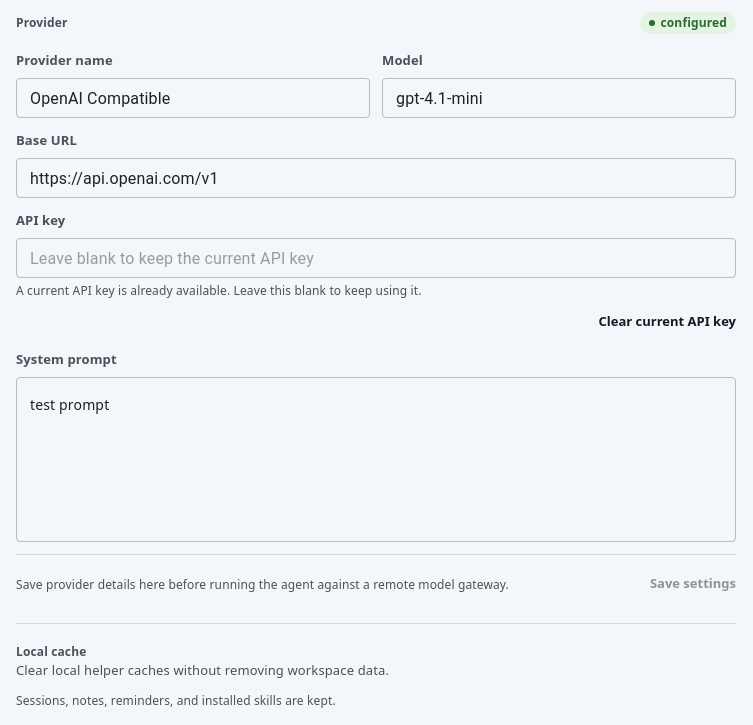
Test: settings workspace toggles api key clear state and undo state
Expected: the password field with placeholder "Leave blank to keep the current API key" is shown, [16,238,736,278]
Expected: the text "A current API key is already available. Leave this blank to keep using it." is shown, [16,282,422,299]
What coordinates should you click on to do the following:
click the button "Clear current API key"
I would click on:
 (667, 321)
Its box is [598,305,736,337].
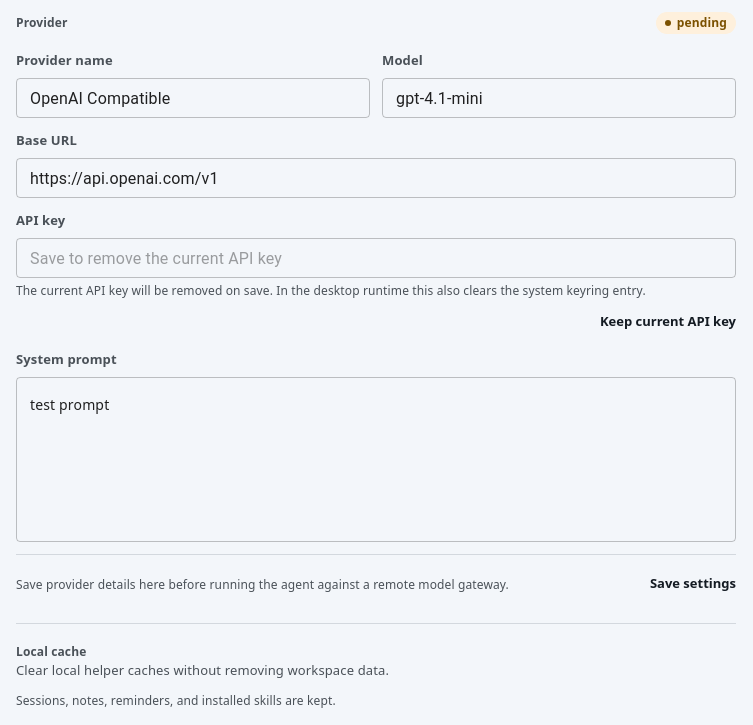
Expected: the password field with placeholder "Save to remove the current API key" is shown, [16,238,736,278]
Expected: the text "The current API key will be removed on save. In the desktop runtime this also clears the system keyring entry." is shown, [16,282,646,299]
Expected: the button "Keep current API key" is shown
What coordinates should you click on to do the following:
click the button "Keep current API key"
I would click on:
 (668, 321)
Its box is [600,305,736,337].
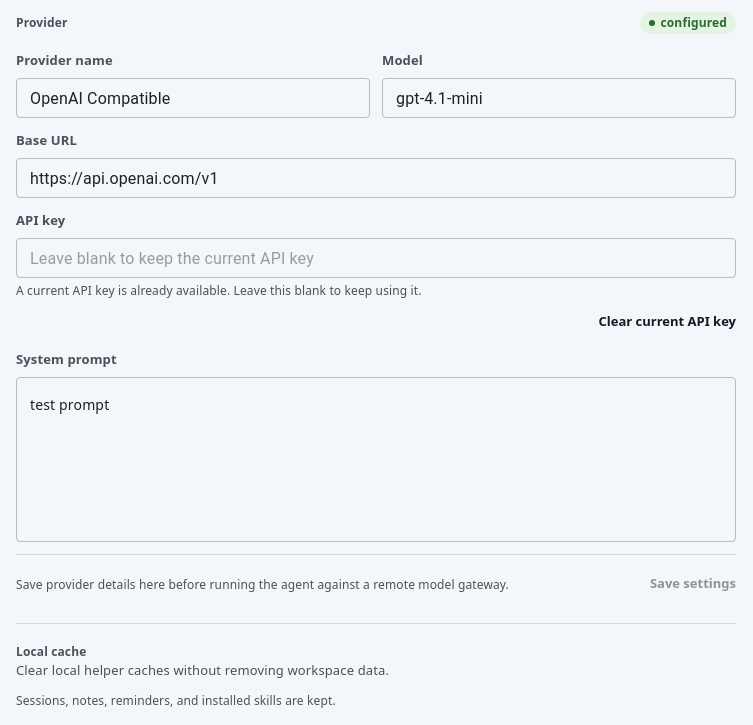
Expected: the password field with placeholder "Leave blank to keep the current API key" is shown, [16,238,736,278]
Expected: the button "Clear current API key" is shown, [598,305,736,337]
